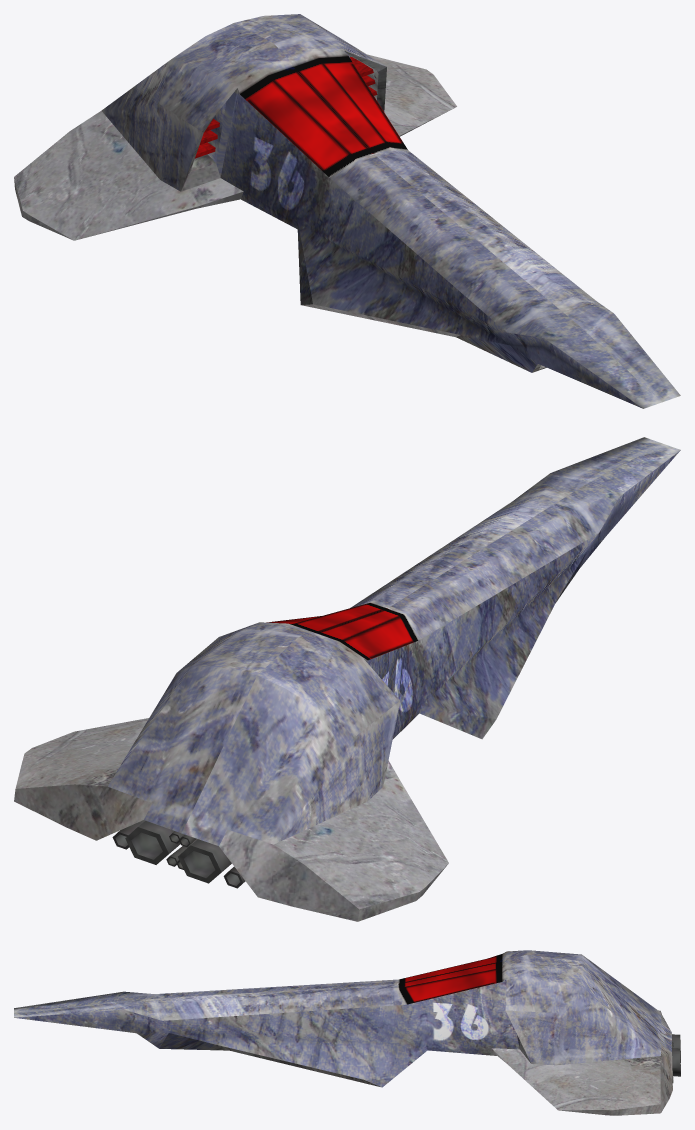
File: HellFire.fbx
The picture shows the model from 3 angles, top to bottom: view 1: azimuth 30°, elevation 25°; view 2: azimuth 150°, elevation 25°; view 3: azimuth 270°, elevation 25°; orthographic projection. The views are drawn at different scales.
Parts seen in each view (by area): view 1: HellFire; view 2: HellFire; view 3: HellFire.
Part boxes in pixels (box(x1,y1,x2,y2)): HellFire: box(14, 14, 680, 408); HellFire: box(14, 437, 680, 921); HellFire: box(14, 950, 680, 1115).
Size of the model in its own units: 5.01 by 2.12 by 10.61.
Materials: 1 (1 with a texture image).
